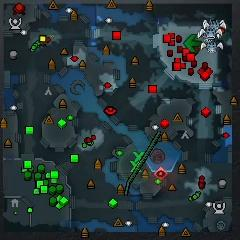Other: (154, 166, 169, 182), (129, 161, 142, 173), (133, 151, 145, 163)
x4: (184, 34, 203, 52)
